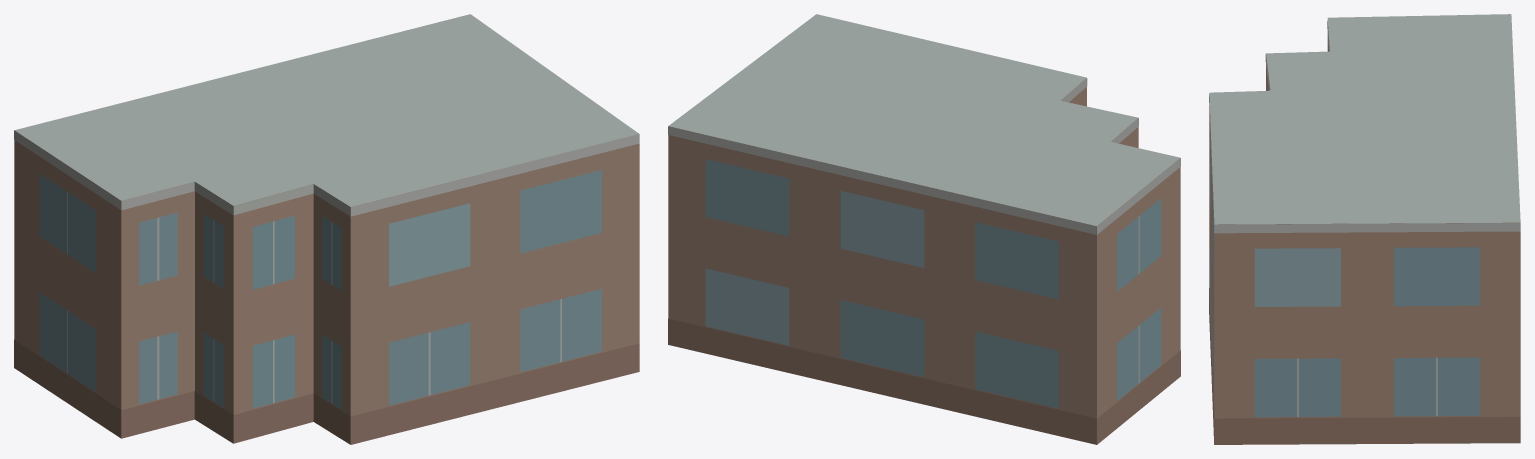
The model's file is survey-upis-32664286.glb.
3 renders of one model, left to right at view 1: azimuth 30°, elevation 25°; view 2: azimuth 150°, elevation 25°; view 3: azimuth 270°, elevation 25°, orthographic. The views are drawn at different scales.
Visible parts, largest first — view 1: survey-upis-32664286.tmp; view 2: survey-upis-32664286.tmp; view 3: survey-upis-32664286.tmp.
Part boxes in pixels (left/top/right/bottom): survey-upis-32664286.tmp: left=14, top=14, right=639, bottom=444; survey-upis-32664286.tmp: left=668, top=14, right=1180, bottom=444; survey-upis-32664286.tmp: left=1209, top=14, right=1520, bottom=444.
Bounding box in the file's own units: 12.5 × 6.1 × 7.82.
